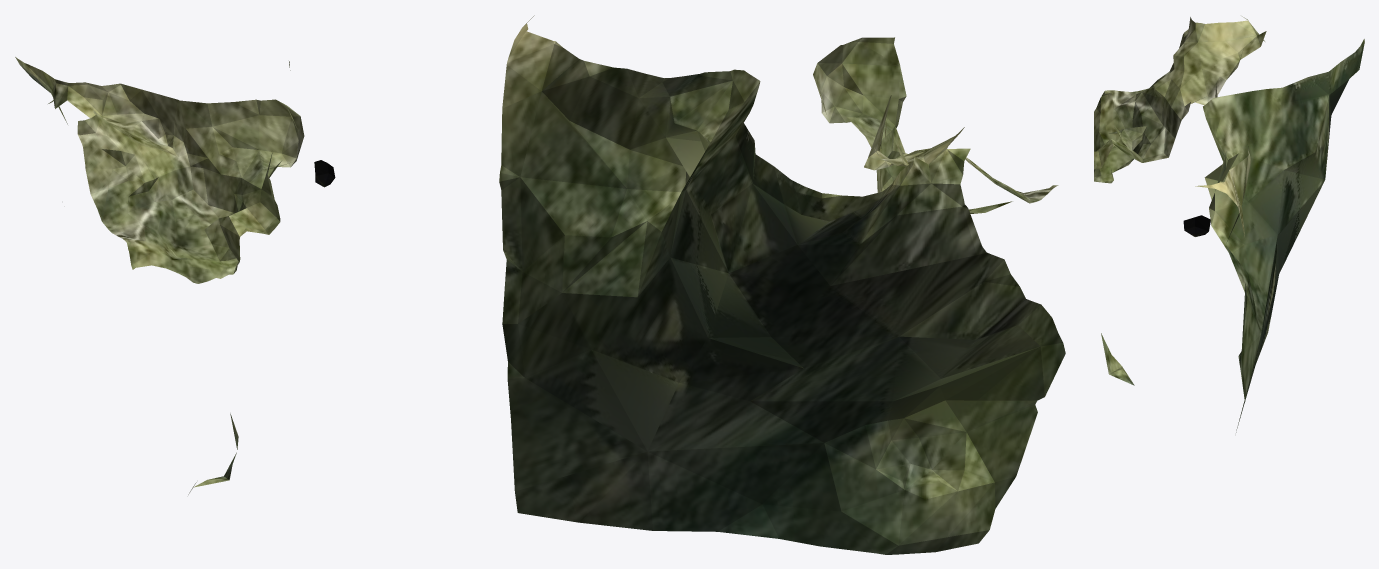
The picture shows the model from 3 angles, left to right: view 1: azimuth 30°, elevation 25°; view 2: azimuth 150°, elevation 25°; view 3: azimuth 270°, elevation 25°; orthographic projection. The views are drawn at different scales.
Size of the model in its own units: 5.9 by 5.9 by 3.92.
Materials: 4 (4 with a texture image).
